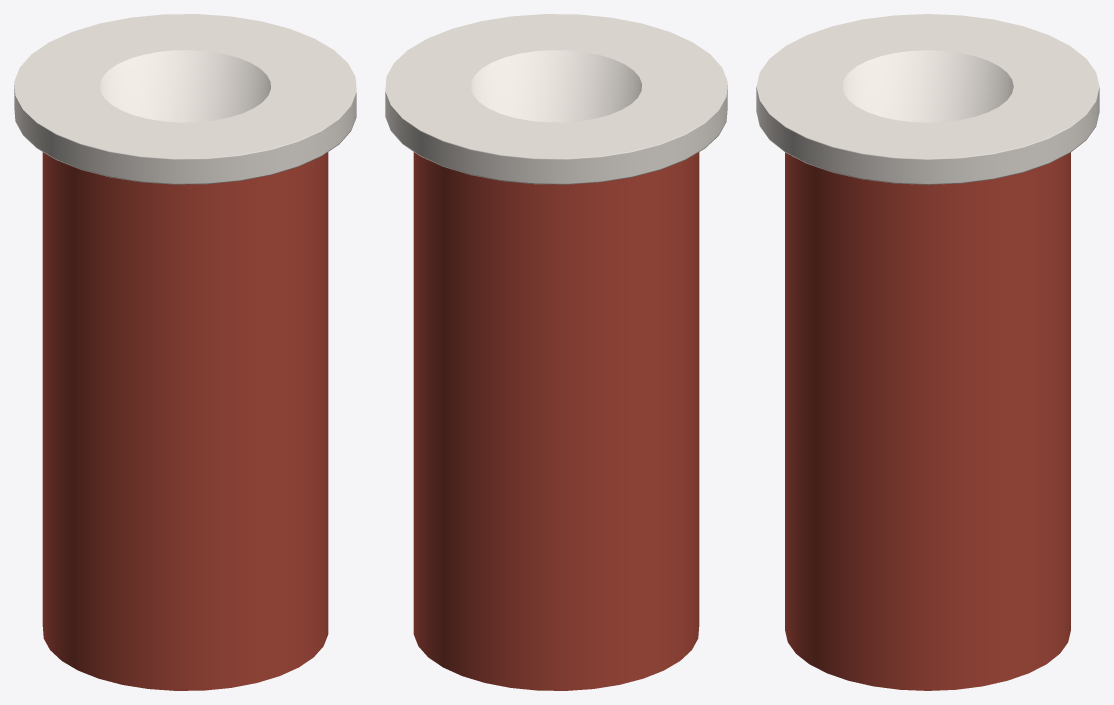
The model's file is 2e obstakel.fbx.
3 renders of one model, left to right at view 1: azimuth 30°, elevation 25°; view 2: azimuth 150°, elevation 25°; view 3: azimuth 270°, elevation 25°, orthographic.
Parts seen in each view (by area): view 1: Cube; view 2: Cube; view 3: Cube.
Boxes of the visible parts, box(x1,y1,x2,y2) form: Cube: box(14, 14, 356, 690); Cube: box(385, 14, 727, 690); Cube: box(756, 14, 1099, 690).
Bounding box in the file's own units: 60 × 105 × 60.
